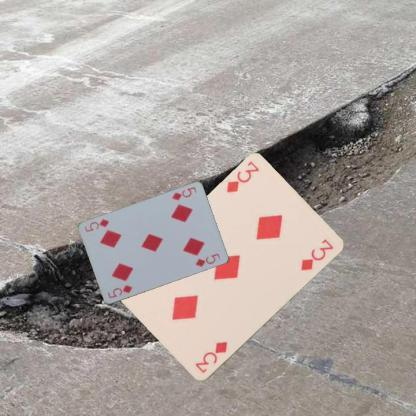3d: (192, 339, 229, 375), (224, 159, 260, 195)
5d: (104, 282, 134, 300), (169, 184, 198, 202)
